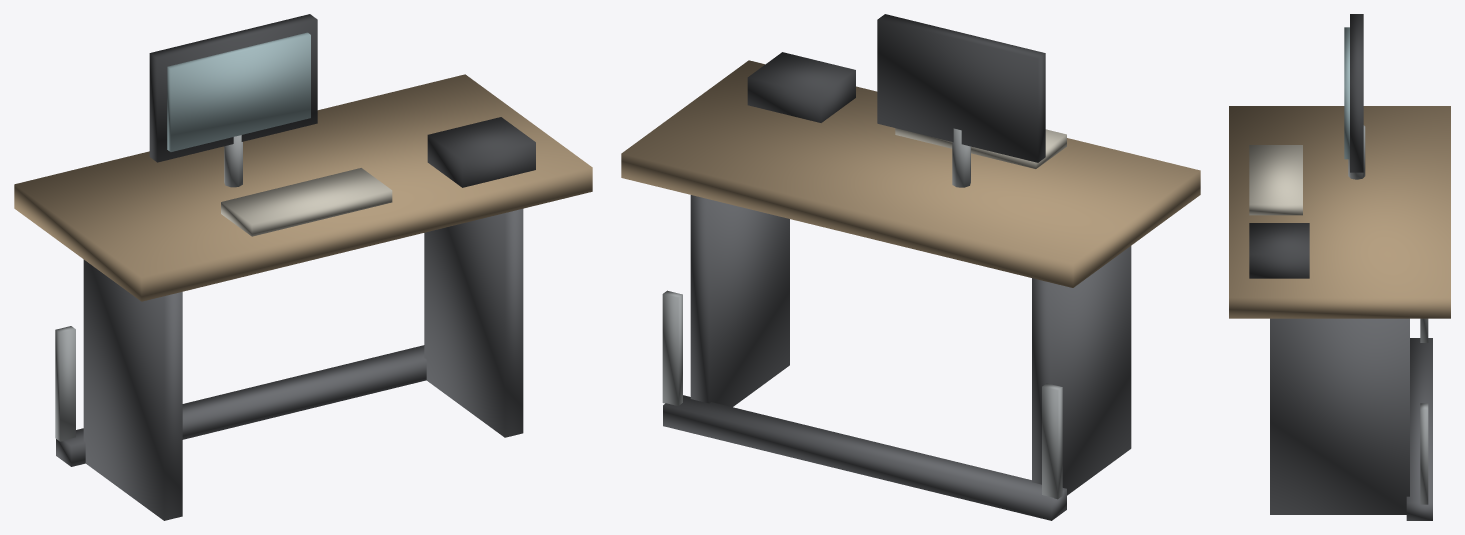
The model's file is modern_workstation__reinforced.glb.
The picture shows the model from 3 angles, left to right: view 1: azimuth 30°, elevation 25°; view 2: azimuth 150°, elevation 25°; view 3: azimuth 270°, elevation 25°; orthographic projection. The views are drawn at different scales.
Parts seen in each view (by area): view 1: world; view 2: world; view 3: world.
Boxes of the visible parts, bbox=[...] form: world: bbox=[14, 14, 592, 520]; world: bbox=[621, 14, 1200, 520]; world: bbox=[1229, 14, 1450, 520].
Bounding box in the file's own units: 1.39 × 1.23 × 0.6798.
